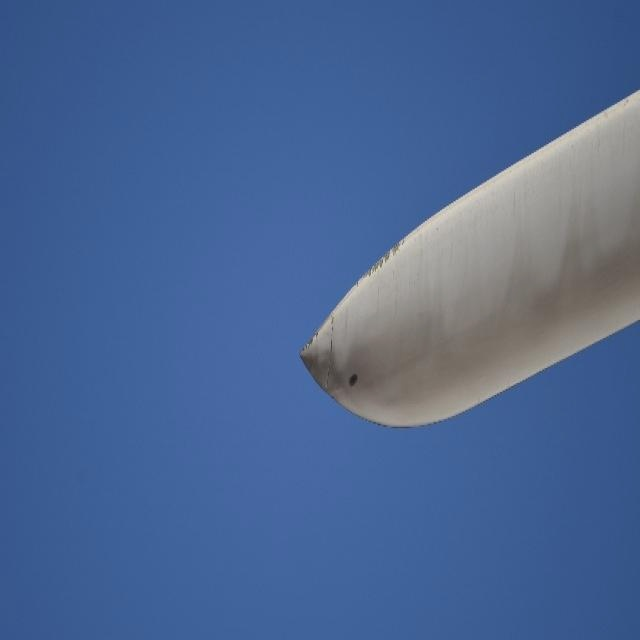Burn Mark: (347, 371, 360, 391)
Crack: (326, 318, 337, 394)
EROSION: (336, 228, 418, 296), (291, 326, 324, 356)
